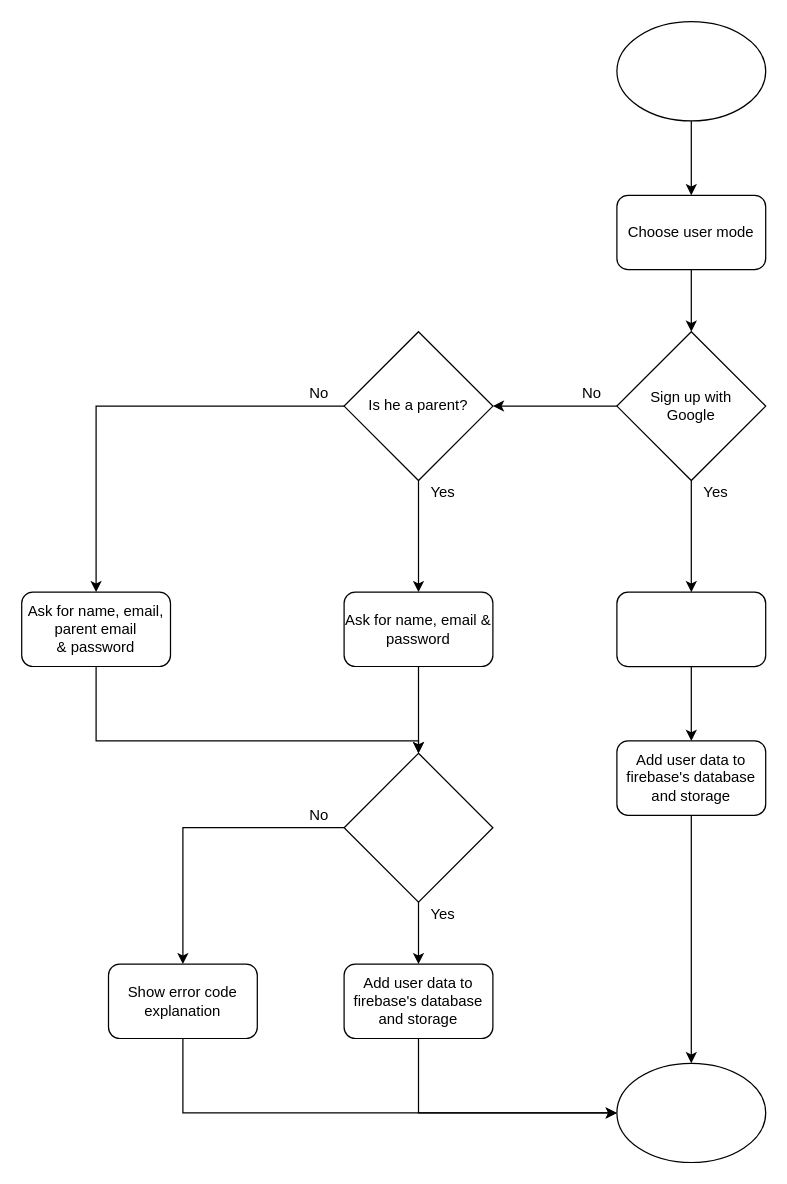
The diagram is 787 pixels wide and 1184 high, and some of its shapes have lost their labels. Here are the shapes that lost their labels. From the top down, the centre of each, then its label:
the point at 691,70: Start
the point at 691,629: Choose a Google account
the point at 418,827: Are entries valid?
the point at 691,1112: End
